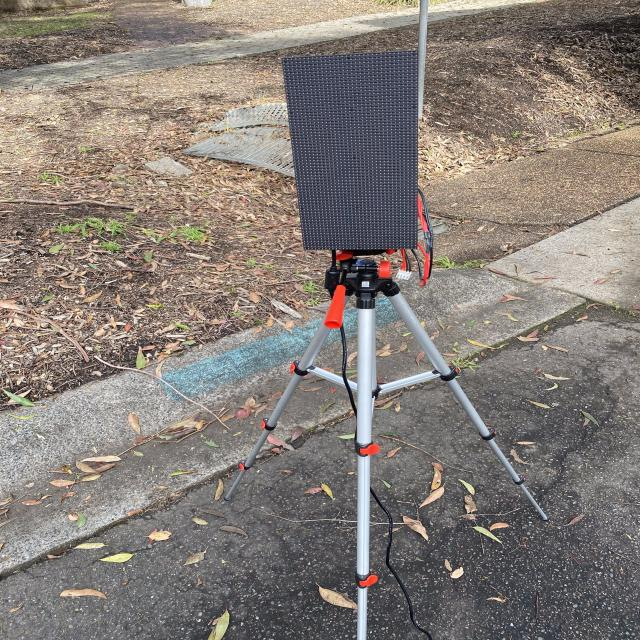matrix: (259, 44, 470, 258)
